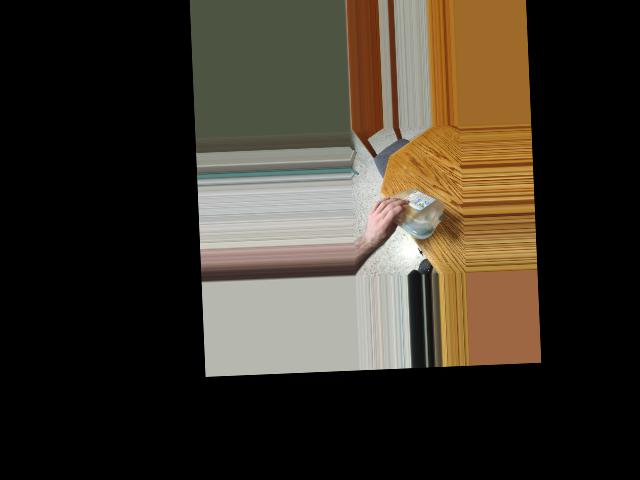cheese: (379, 184, 447, 239)
